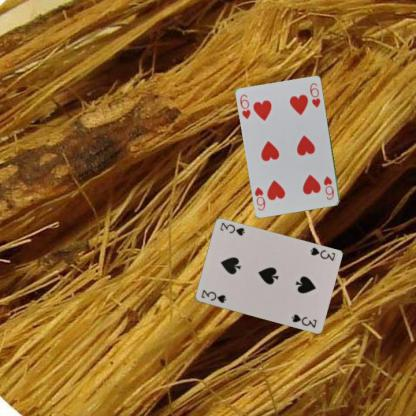3s: (198, 287, 228, 305), (308, 245, 336, 262)
6h: (237, 92, 252, 120), (321, 173, 335, 201)
